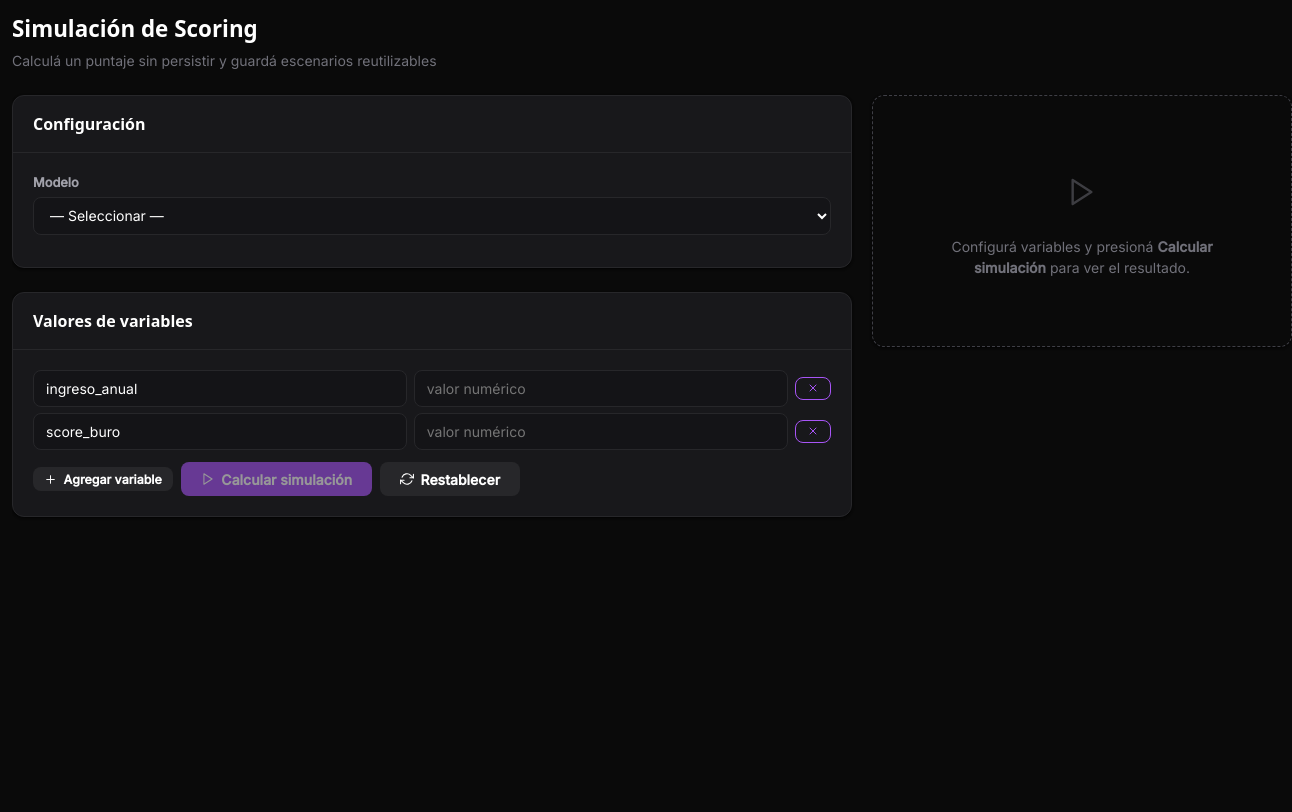
Test case: Simulation — add and remove variable rows › adds a new empty variable row when clicking Agregar variable
Step 1. Click the button "Agregar variable" → click(103, 479), box x1=33 y1=467 x2=173 y2=491
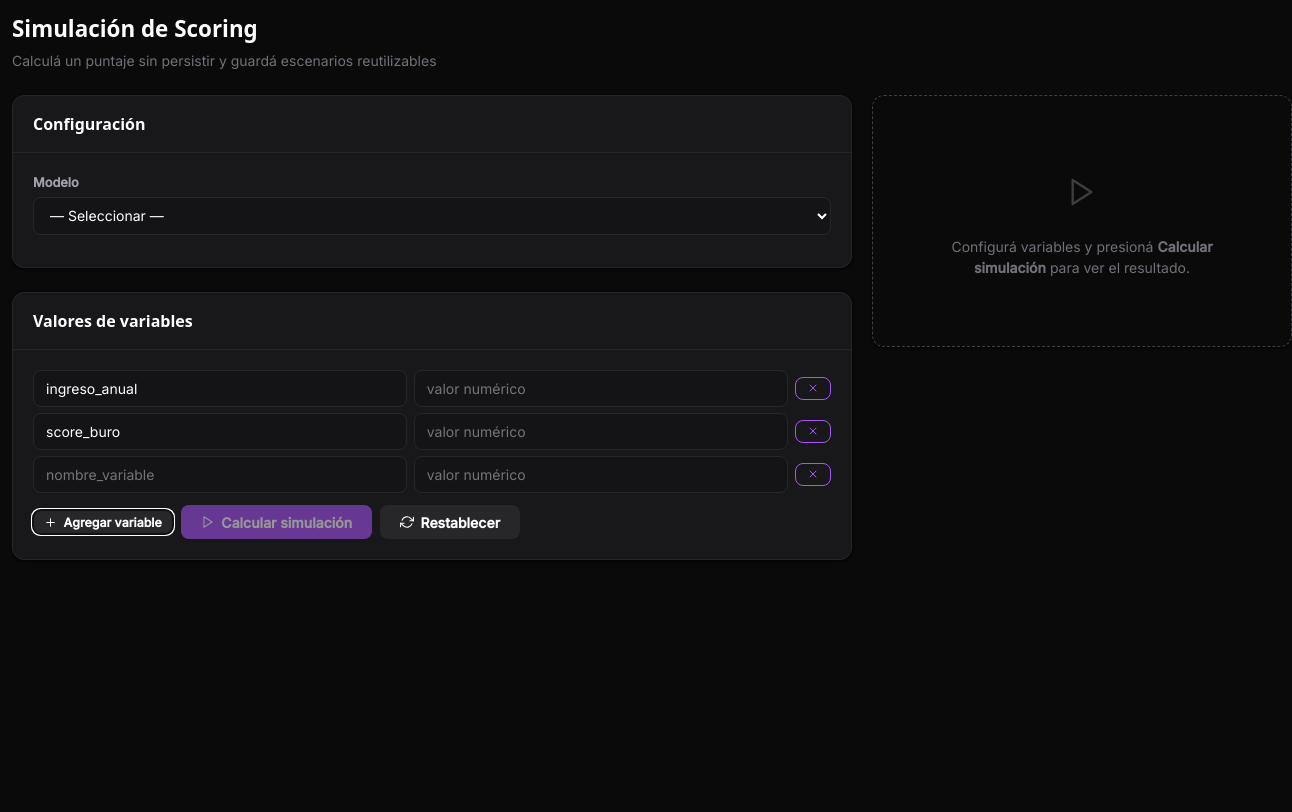
Expected: the number of elements with class "sim-var-row" is 3, x1=33 y1=370 x2=831 y2=407; x1=33 y1=413 x2=831 y2=450; x1=33 y1=456 x2=831 y2=493
